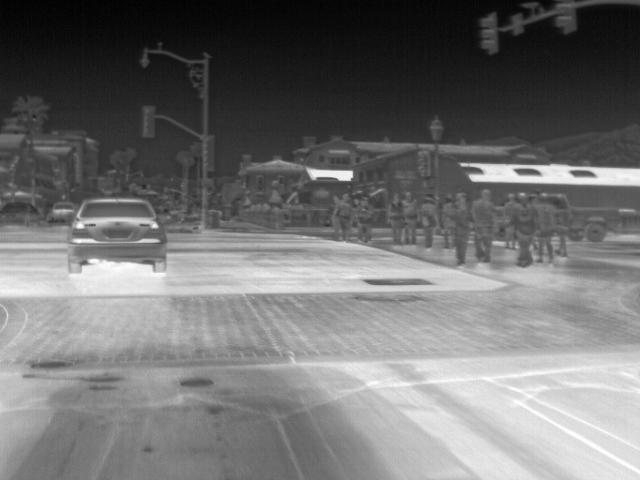car: (66, 198, 168, 273), (557, 193, 622, 244), (1, 202, 38, 228), (46, 199, 78, 226)
person: (469, 188, 497, 262), (510, 192, 537, 268), (449, 190, 471, 266), (537, 192, 557, 260), (416, 196, 438, 246), (397, 192, 417, 245), (332, 192, 352, 241), (384, 193, 403, 244)
